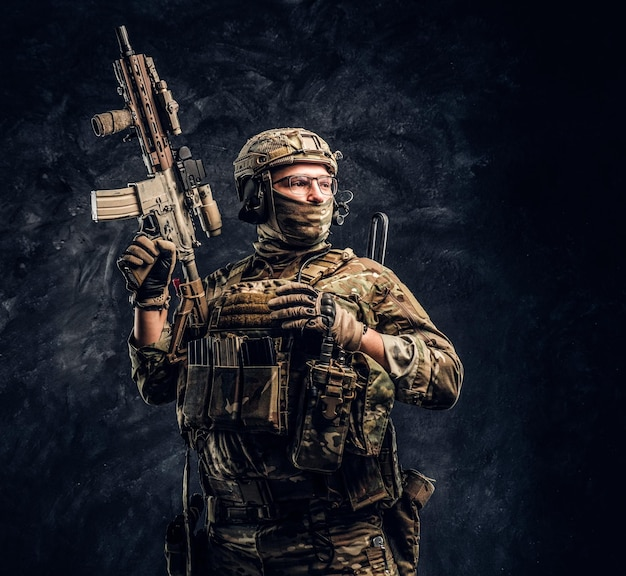gun: (87, 23, 225, 367)
